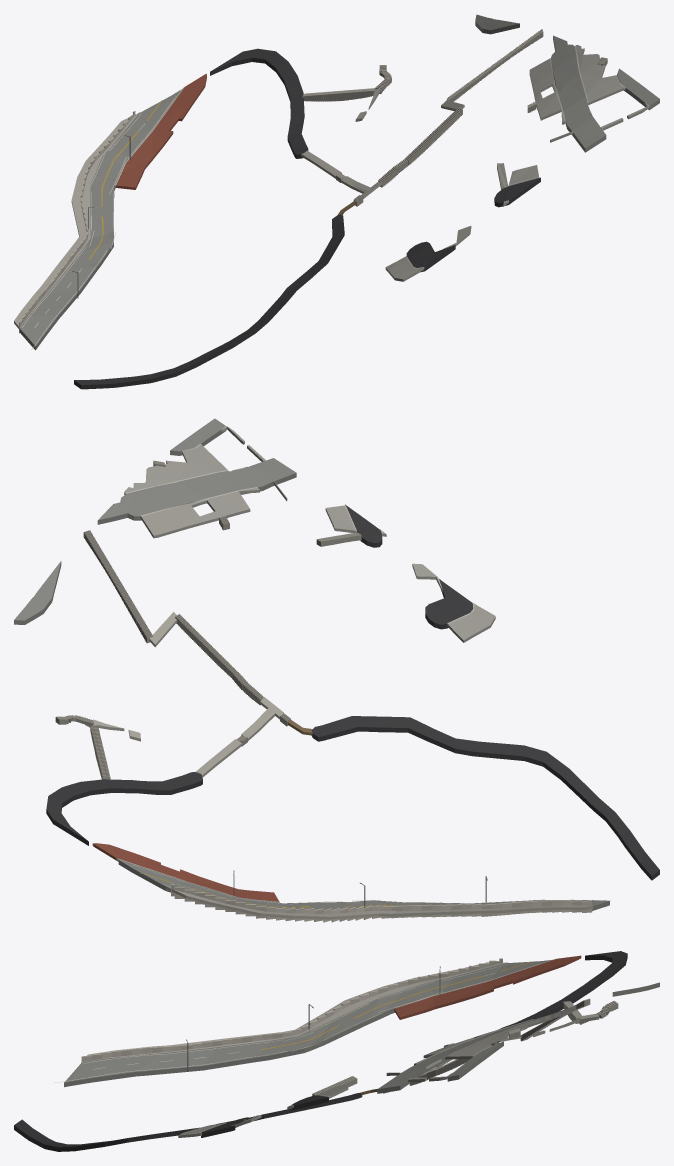
3 renders of one model, top to bottom at view 1: azimuth 30°, elevation 25°; view 2: azimuth 150°, elevation 25°; view 3: azimuth 330°, elevation 25°, orthographic. The views are drawn at different scales.
Bounding box in the file's own units: 149 × 66.69 × 146.
